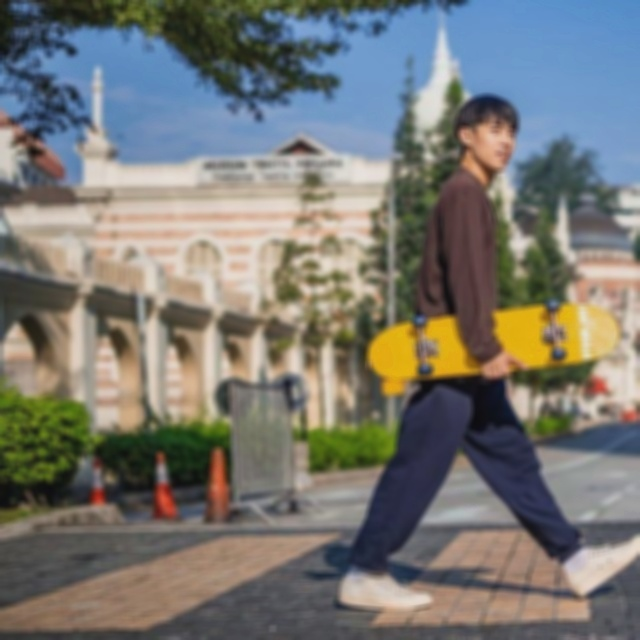Sin_Casco_Mascarrilla: (456, 94, 519, 172)
Sin_Chaleco: (420, 172, 504, 345)
